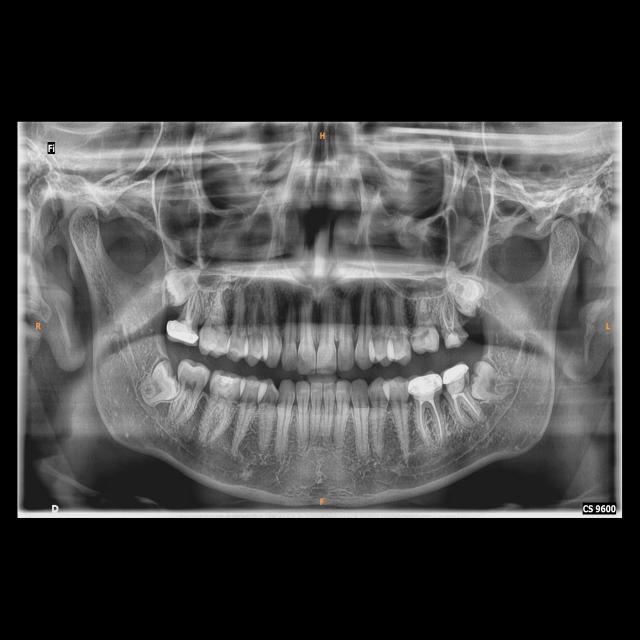dolgu: (443, 330, 468, 349)
kanal-tedavisi: (414, 399, 450, 447), (447, 389, 484, 424), (175, 289, 205, 326), (438, 293, 460, 330)
kaplama: (164, 315, 204, 347), (408, 373, 445, 398), (441, 365, 474, 386)
